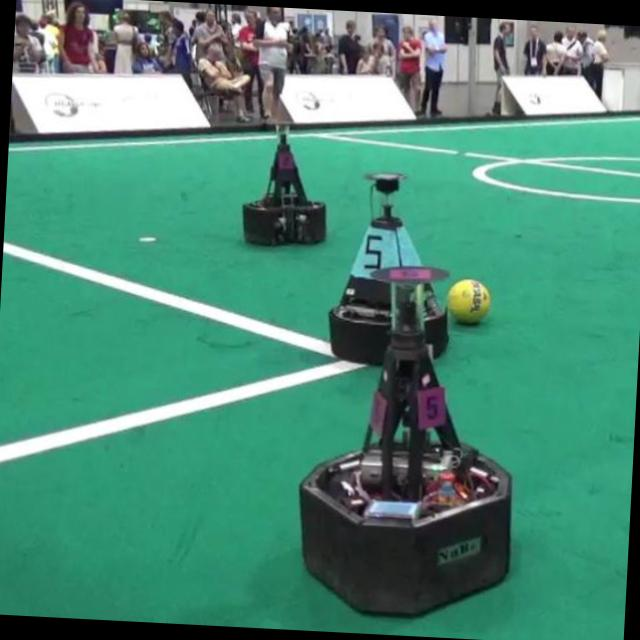ball: (447, 278, 491, 323)
robot: (299, 265, 512, 615), (329, 172, 421, 364), (242, 132, 325, 243)
